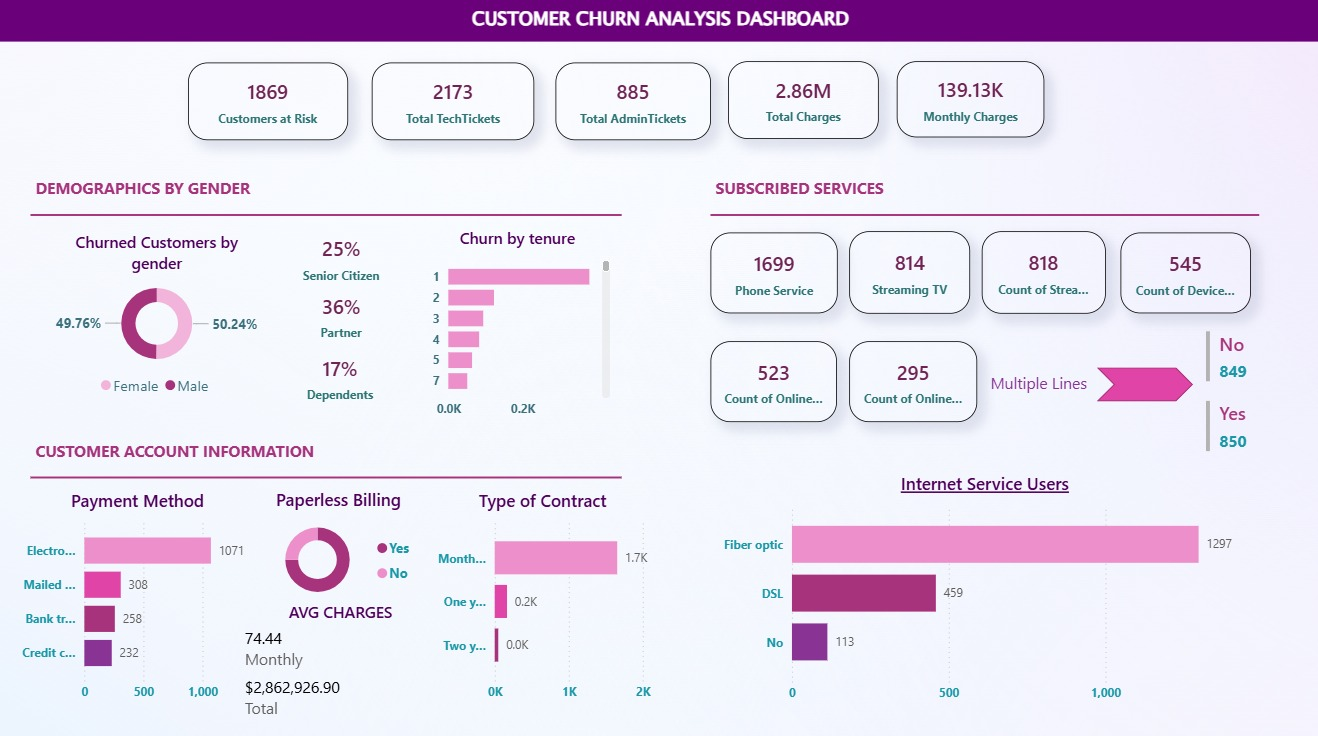

The dashboard page shown, as its layout file describes it:
{"tool":"powerbi","page":{"name":"Page 1","canvas":[1350,750],"ordinal":0},"visuals":[{"type":"card","fields":{"Values":["CountNonNull(01 Churn-Dataset.customerID)"]},"box":[193.3,63.9,162.8,79.1],"z":0},{"type":"textbox","box":[0,0,1350.2,42],"z":1000},{"type":"card","fields":{"Values":["Sum(01 Churn-Dataset.numTechTickets)"]},"box":[380.4,63.9,165.9,79.1],"z":2000},{"type":"card","fields":{"Values":["Sum(01 Churn-Dataset.numAdminTickets)"]},"box":[567.6,63.9,158.3,79.1],"z":3000},{"type":"card","fields":{"Values":["Sum(01 Churn-Dataset.TotalCharges)"]},"box":[744.1,62.4,153.7,79.1],"z":4000},{"type":"card","fields":{"Values":["Sum(01 Churn-Dataset.MonthlyCharges)"]},"box":[916,62.4,150.6,77.6],"z":5000},{"type":"donutChart","title":"Churned Customers by gender","fields":{"Category":["01 Churn-Dataset.gender"],"Y":["CountNonNull(01 Churn-Dataset.Churn)"]},"box":[48.4,222.9,226.7,196.2],"z":6000},{"type":"card","fields":{"Values":["Churn.Senior Citizen"]},"box":[275.1,219.1,149,87.9],"z":7000},{"type":"card","fields":{"Values":["Churn.% of dependents"]},"box":[273.9,340.1,149,89.2],"z":8000},{"type":"card","fields":{"Values":["Churn.% of partner"]},"box":[275.1,277.7,149,87.9],"z":9000},{"type":"textbox","box":[33.1,175.8,550.3,43.3],"z":10000},{"type":"clusteredBarChart","title":"Churn by tenure","fields":{"Category":["Churn.tenure"],"Y":["CountNonNull(Churn.Churn)"]},"box":[422.9,219.1,212.7,222.9],"z":11000},{"type":"shape","box":[33.1,184.7,602.5,68.8],"z":12000},{"type":"shape","box":[726.1,184.7,559.2,68.8],"z":13000},{"type":"card","fields":{"Values":["CountNonNull(Churn.PhoneService)"]},"box":[726.1,236.9,129.9,82.8],"z":14000},{"type":"card","fields":{"Values":["CountNonNull(Churn.StreamingTV)"]},"box":[867.4,235.7,123.6,84.1],"z":15000},{"type":"card","fields":{"Values":["CountNonNull(Churn.StreamingMovies)"]},"box":[1002.5,235.7,126.1,84.1],"z":16000},{"type":"card","fields":{"Values":["CountNonNull(Churn.DeviceProtection)"]},"box":[1143.9,236.9,132.5,82.8],"z":17000},{"type":"card","fields":{"Values":["CountNonNull(Churn.OnlineBackup)"]},"box":[726,348,129,82.5],"z":18000},{"type":"card","fields":{"Values":["CountNonNull(Churn.OnlineSecurity)"]},"box":[867,348,130.5,82.5],"z":19000},{"type":"multiRowCard","fields":{"Values":["Churn.MultipleLines","Churn.customerID"]},"box":[1224.1,331.2,126.1,155.4],"z":20000},{"type":"shape","box":[1119.7,374.5,98.1,34.4],"z":21000},{"type":"textbox","box":[1006.3,374.5,122.3,31.8],"z":22000},{"type":"clusteredBarChart","title":"Internet Service Users","fields":{"Category":["Churn.InternetService"],"Y":["CountNonNull(Churn.InternetService)"]},"box":[726.1,468.8,559.2,262.4],"z":23000},{"type":"textbox","box":[726.1,175.8,550.3,43.3],"z":24000},{"type":"textbox","box":[33.1,443.3,550.3,43.3],"z":25000},{"type":"shape","box":[33.1,452.2,602.5,68.8],"z":26000},{"type":"clusteredBarChart","title":"Payment Method","fields":{"Category":["Churn.PaymentMethod"],"Y":["CountNonNull(Churn.PaymentMethod)"]},"box":[0,486.9,284.6,243.5],"z":27000},{"type":"donutChart","title":"Paperless Billing","fields":{"Category":["Churn.PaperlessBilling"],"Y":["CountNonNull(Churn.PaperlessBilling)"]},"box":[254.1,485.4,187.2,143],"z":28000},{"type":"multiRowCard","title":"AVG CHARGES","fields":{"Values":["Avg(Churn.MonthlyCharges)","Sum(Churn.TotalCharges)"]},"box":[238.9,599.5,219.1,150.6],"z":29000},{"type":"clusteredBarChart","title":"Type of Contract ","fields":{"Category":["Churn.Contract"],"Y":["CountNonNull(Churn.Contract)"]},"box":[424.5,486.9,261.7,243.5],"z":30000}]}

Visuals, with their boxes in screenshot pixels (x1, y1, x2, y2), scaled from the page's 1350x750 canvas onto the 1318x736 screenshot:
card - CountNonNull(01 Churn-Dataset.customerID): left=189, top=63, right=348, bottom=140
textbox: left=0, top=0, right=1317, bottom=41
card - Sum(01 Churn-Dataset.numTechTickets): left=371, top=63, right=533, bottom=140
card - Sum(01 Churn-Dataset.numAdminTickets): left=554, top=63, right=709, bottom=140
card - Sum(01 Churn-Dataset.TotalCharges): left=726, top=61, right=877, bottom=139
card - Sum(01 Churn-Dataset.MonthlyCharges): left=894, top=61, right=1041, bottom=137
"Churned Customers by gender" donutChart: left=47, top=219, right=269, bottom=411
card - Churn.Senior Citizen: left=269, top=215, right=414, bottom=301
card - Churn.% of dependents: left=267, top=334, right=413, bottom=421
card - Churn.% of partner: left=269, top=273, right=414, bottom=359
textbox: left=32, top=173, right=570, bottom=215
"Churn by tenure" clusteredBarChart: left=413, top=215, right=621, bottom=434
shape: left=32, top=181, right=621, bottom=249
shape: left=709, top=181, right=1255, bottom=249
card - CountNonNull(Churn.PhoneService): left=709, top=232, right=836, bottom=314
card - CountNonNull(Churn.StreamingTV): left=847, top=231, right=968, bottom=314
card - CountNonNull(Churn.StreamingMovies): left=979, top=231, right=1102, bottom=314
card - CountNonNull(Churn.DeviceProtection): left=1117, top=232, right=1246, bottom=314
card - CountNonNull(Churn.OnlineBackup): left=709, top=342, right=835, bottom=422
card - CountNonNull(Churn.OnlineSecurity): left=846, top=342, right=974, bottom=422
multiRowCard - Churn.MultipleLines x Churn.customerID: left=1195, top=325, right=1317, bottom=478
shape: left=1093, top=368, right=1189, bottom=401
textbox: left=982, top=368, right=1102, bottom=399
"Internet Service Users" clusteredBarChart: left=709, top=460, right=1255, bottom=718
textbox: left=709, top=173, right=1246, bottom=215
textbox: left=32, top=435, right=570, bottom=478
shape: left=32, top=444, right=621, bottom=511
"Payment Method" clusteredBarChart: left=0, top=478, right=278, bottom=717
"Paperless Billing" donutChart: left=248, top=476, right=431, bottom=617
"AVG CHARGES" multiRowCard: left=233, top=588, right=447, bottom=735
"Type of Contract " clusteredBarChart: left=414, top=478, right=670, bottom=717
